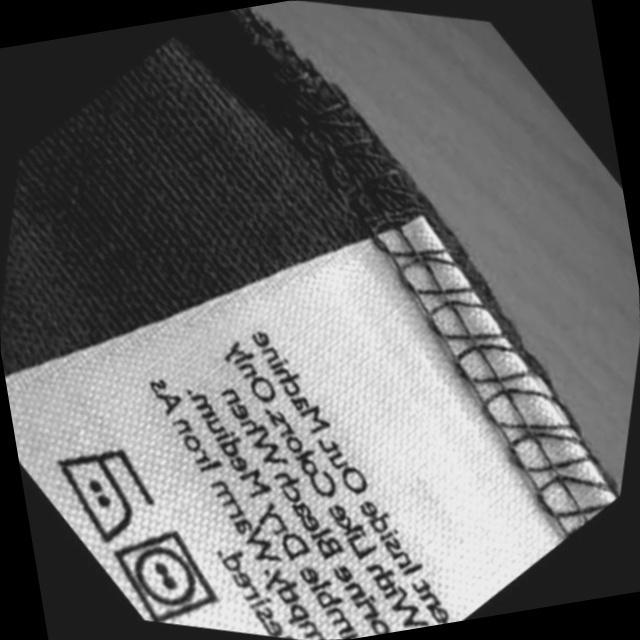iron_medium: (25, 421, 176, 564)
tumble_dry_medium: (87, 505, 240, 640)
